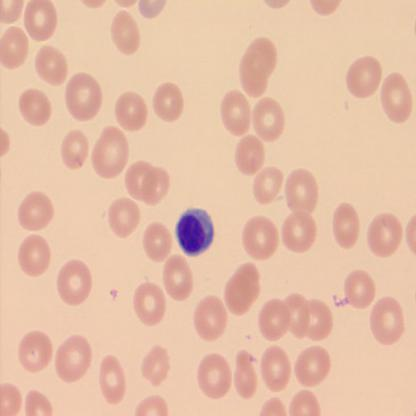NRC: (174, 205, 214, 257)
